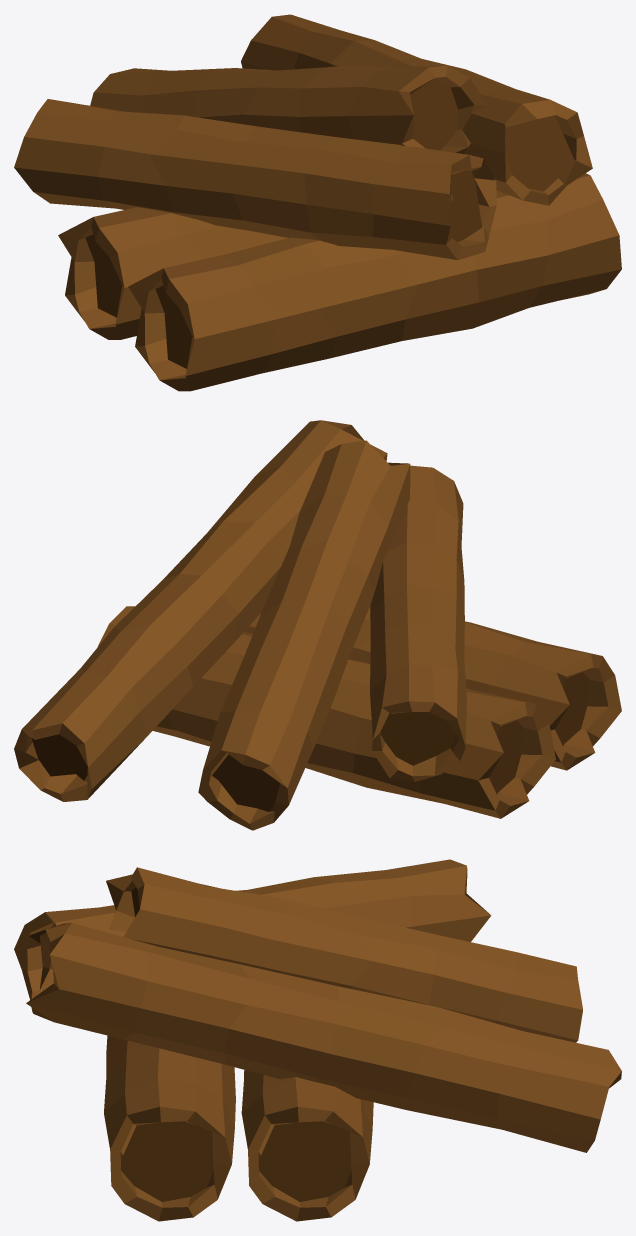
The model's file is LogWood.fbx.
3 renders of one model, top to bottom at view 1: azimuth 30°, elevation 25°; view 2: azimuth 150°, elevation 25°; view 3: azimuth 270°, elevation 25°, orthographic. The views are drawn at different scales.
Parts seen in each view (by area): view 1: Cylinder.005; view 2: Cylinder.005; view 3: Cylinder.005.
Part boxes in pixels (<box>): Cylinder.005: <box>14,14,621,391</box>; Cylinder.005: <box>14,420,621,830</box>; Cylinder.005: <box>14,859,621,1221</box>.
Bounding box in the file's own units: 123 × 73.91 × 148.
